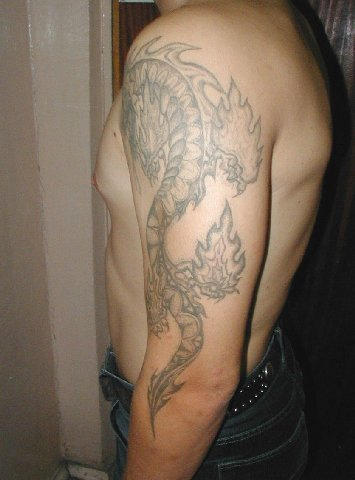tatu6_drakon: (99, 18, 263, 448)
